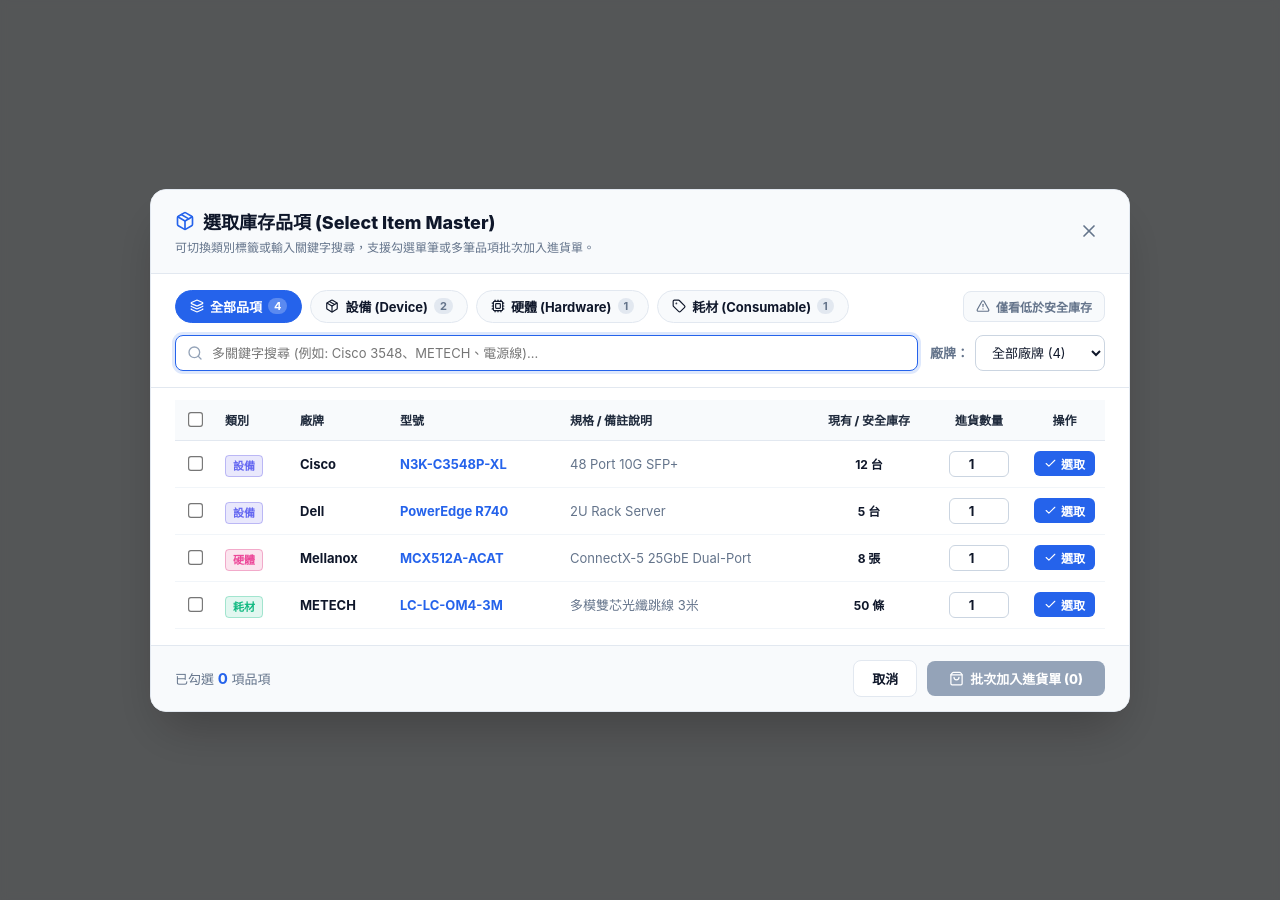
Test: InboundItemSelectModal 組件測試 › 支援依類別標籤快速切換篩選
The image size is (1280, 900).
#  切換為「耗材」
Click the button with test id "category-filter-耗材" at [753, 306], box [657,290,849,322]
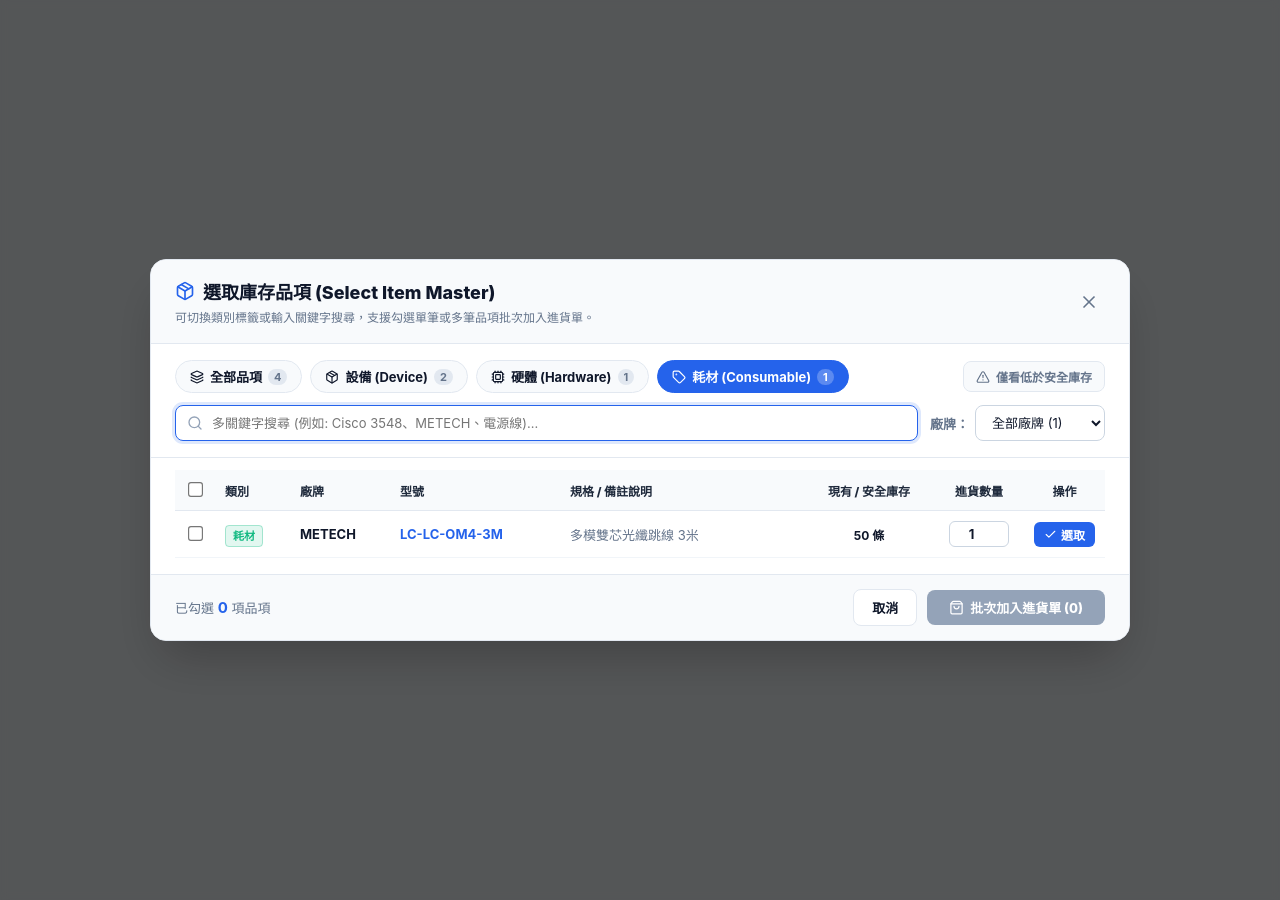
Check: the text "LC-LC-OM4-3M" is shown, box [390,510,560,558]
Check: the text "N3K-C3548P-XL" is gone
Check: the text "MCX512A-ACAT" is gone
